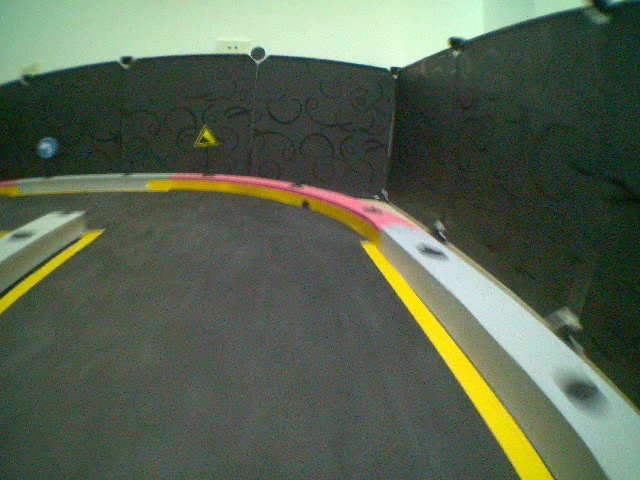fast: (191, 122, 220, 147)
turn: (36, 134, 56, 159)
